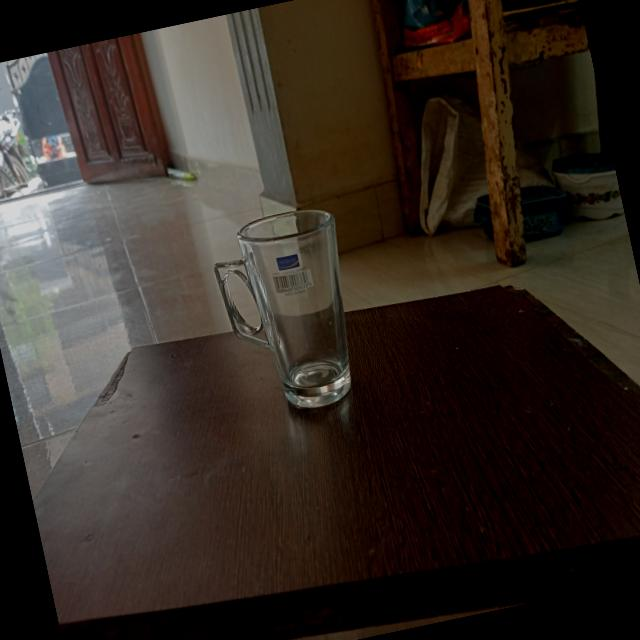glass-VX4N: (204, 201, 374, 422)
